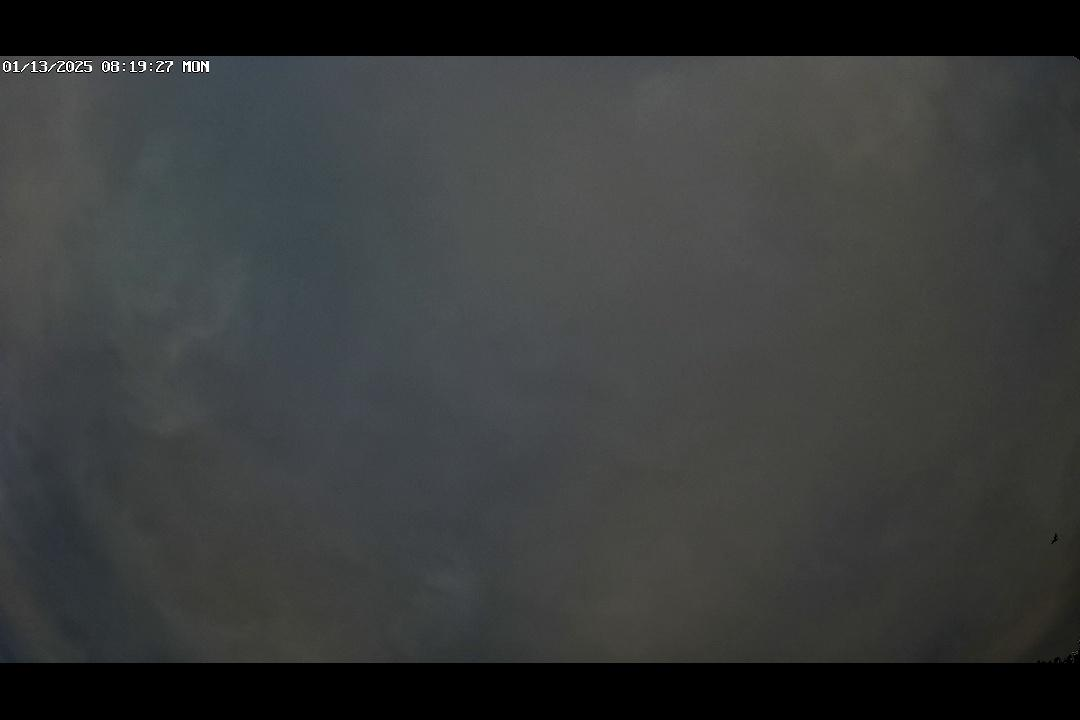WildLife: (1030, 528, 1075, 548)
